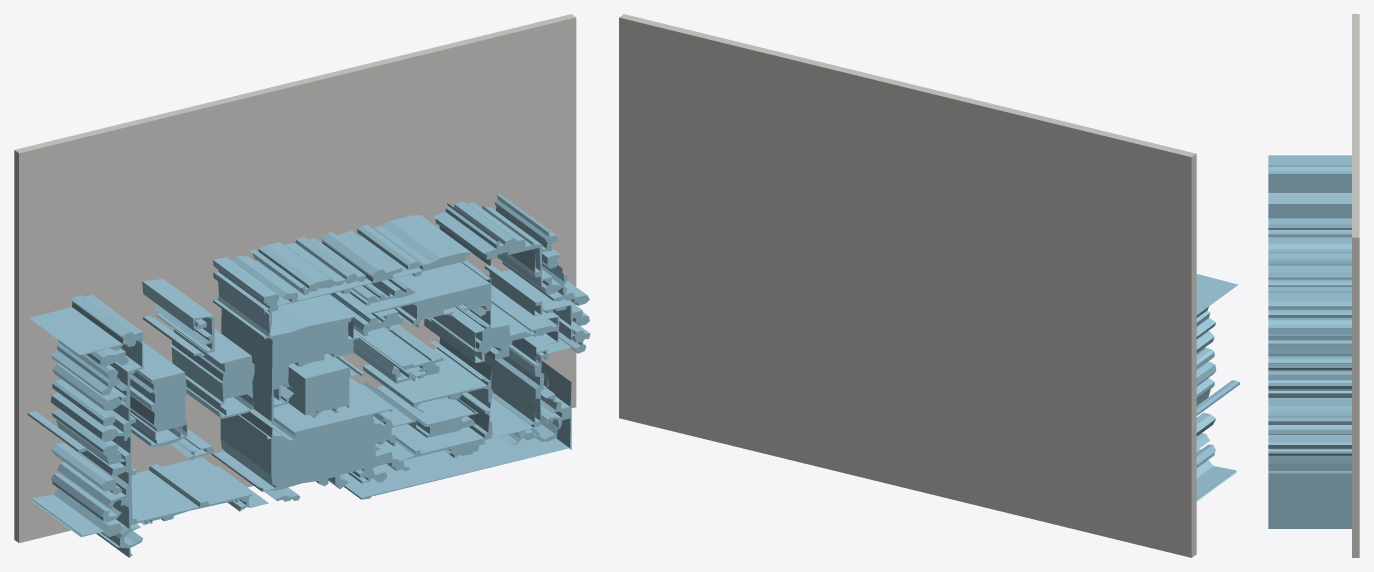
The picture shows the model from 3 angles, left to right: view 1: azimuth 30°, elevation 25°; view 2: azimuth 150°, elevation 25°; view 3: azimuth 270°, elevation 25°; orthographic projection. The views are drawn at different scales.
Visible parts, largest first — view 1: world; view 2: world; view 3: world.
Part boxes in pixels (left/top/right/bottom): world: left=14, top=14, right=590, bottom=557; world: left=619, top=14, right=1239, bottom=557; world: left=1268, top=14, right=1359, bottom=557.
Size of the model in its own units: 10.23 by 6.84 by 1.77.
